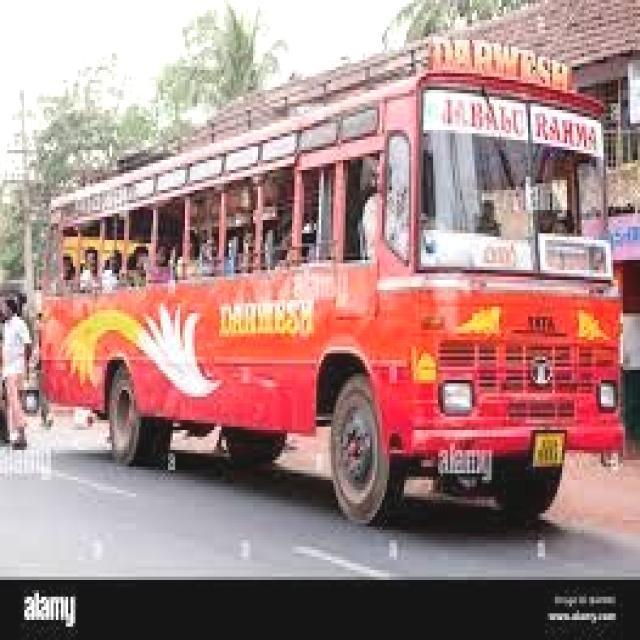Bus: (41, 22, 628, 534)
